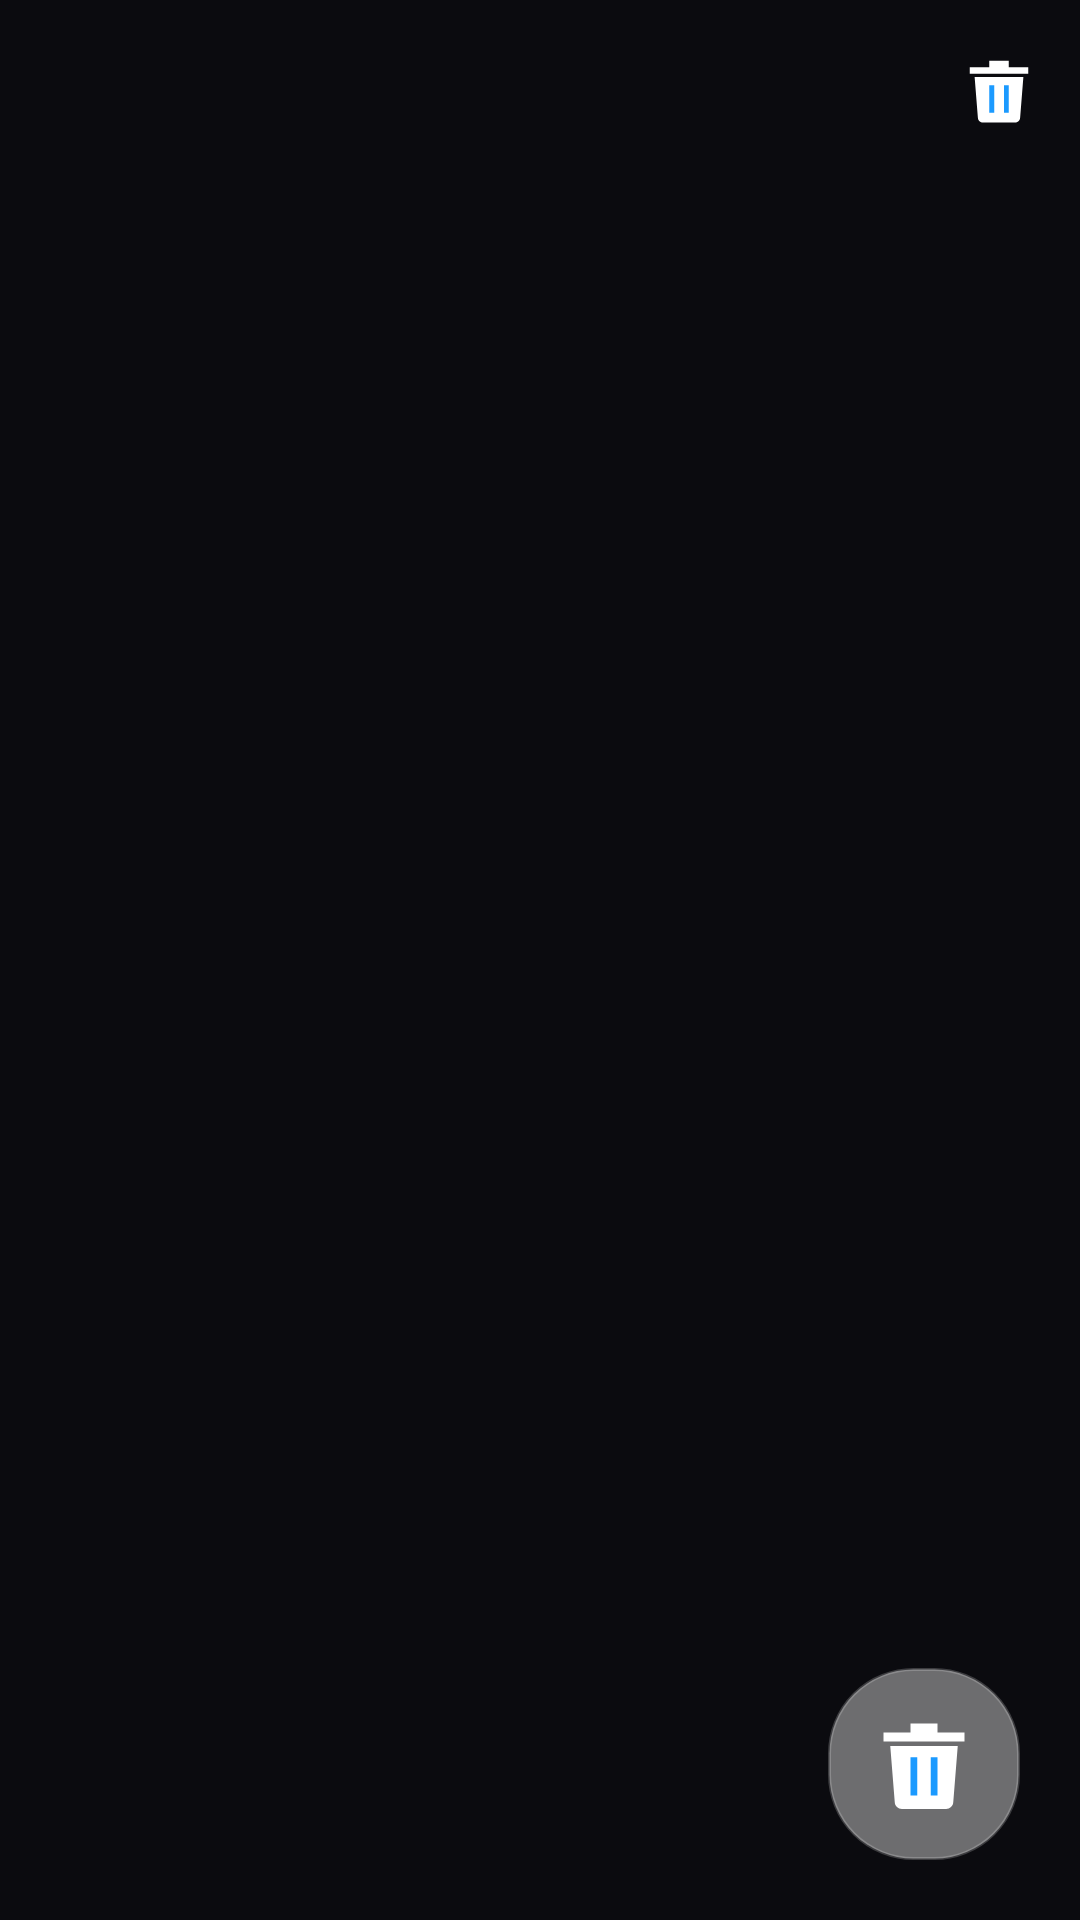

Named icons in this screenshot (1080×1920) and their bounding boxes, (x1, y1, x2, y2):
Çöp Kutusu: (969, 60, 1029, 123), (828, 1668, 1020, 1860)
